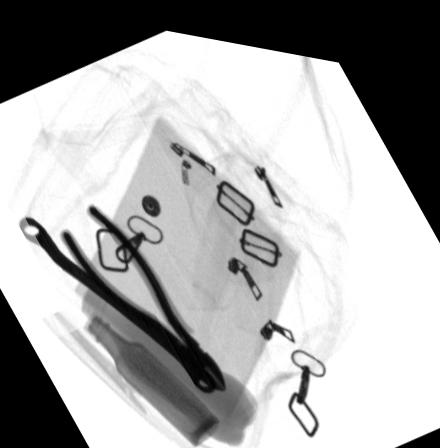Pliers: (58, 197, 226, 384)
Wrench: (15, 213, 216, 386)
